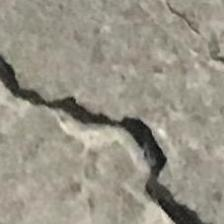Crack: (0, 49, 207, 224)
